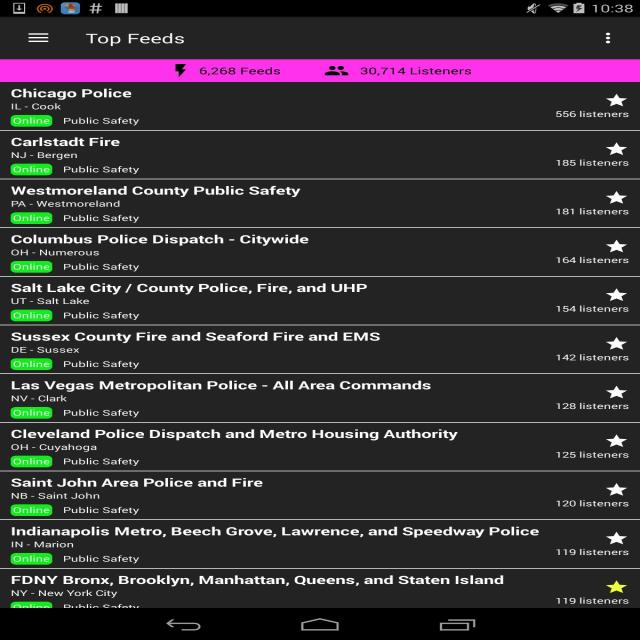button: (0, 81, 640, 130), (2, 471, 640, 519), (2, 374, 638, 422), (0, 130, 639, 177), (0, 180, 639, 227), (1, 326, 640, 373), (2, 521, 640, 568), (2, 423, 638, 470), (0, 229, 638, 275), (0, 278, 639, 323), (1, 570, 640, 609), (25, 29, 55, 47), (602, 28, 616, 50)
heading: (9, 525, 542, 538), (8, 427, 460, 442), (11, 573, 505, 586), (10, 378, 432, 392), (10, 184, 302, 200), (11, 282, 366, 295), (10, 330, 381, 342), (11, 233, 312, 246), (11, 478, 264, 490), (84, 30, 188, 50), (10, 86, 134, 100), (10, 136, 121, 149)
image: (9, 163, 54, 176), (9, 211, 54, 224), (12, 455, 52, 468), (12, 553, 52, 566), (10, 358, 53, 370), (12, 408, 52, 420), (602, 433, 630, 450), (10, 115, 53, 126), (10, 310, 52, 321), (10, 261, 51, 272), (12, 505, 51, 516), (604, 141, 630, 157), (603, 384, 629, 400), (604, 336, 630, 351), (604, 531, 630, 546), (606, 481, 629, 497), (606, 92, 626, 109), (606, 287, 627, 303), (607, 580, 629, 594), (606, 191, 627, 205), (608, 240, 627, 254)
text: (321, 63, 476, 78), (171, 63, 284, 79), (10, 588, 119, 598), (61, 211, 142, 224), (10, 200, 123, 209), (61, 164, 144, 176), (62, 407, 141, 419), (64, 553, 142, 565), (63, 359, 140, 371), (9, 248, 101, 258), (62, 505, 142, 516), (61, 262, 140, 273), (62, 311, 141, 322), (63, 115, 140, 126), (9, 296, 91, 306), (10, 491, 101, 500), (10, 149, 80, 160), (11, 444, 99, 452), (9, 345, 82, 354), (9, 100, 63, 112), (11, 541, 77, 549), (10, 394, 68, 403)
